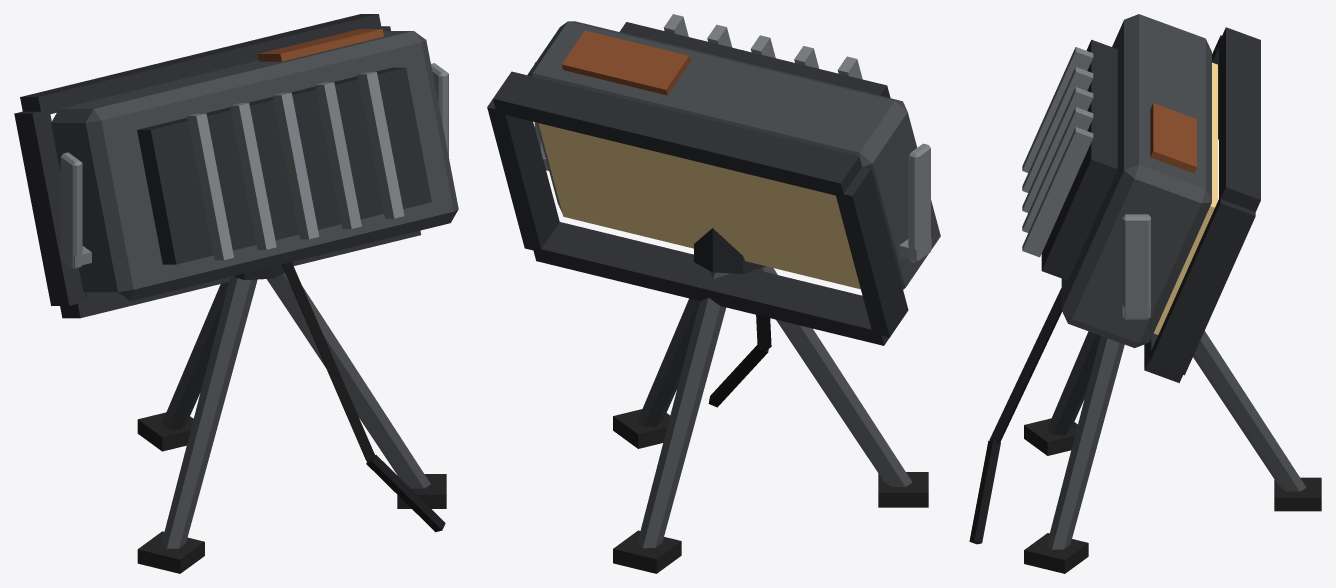
The model's file is piece_floodlight.fbx.
3 views of the same model, side by side, from view 1: azimuth 30°, elevation 25°; view 2: azimuth 150°, elevation 25°; view 3: azimuth 270°, elevation 25° (orthographic). The views are drawn at different scales.
Visible parts, largest first — view 1: piece_floodlight; view 2: piece_floodlight; view 3: piece_floodlight.
Boxes of the visible parts, box(x1,y1,x2,y2) form: piece_floodlight: box(14, 14, 458, 573); piece_floodlight: box(487, 14, 940, 573); piece_floodlight: box(969, 14, 1321, 573).
Size of the model in its own units: 0.442 by 0.4825 by 0.3717.
